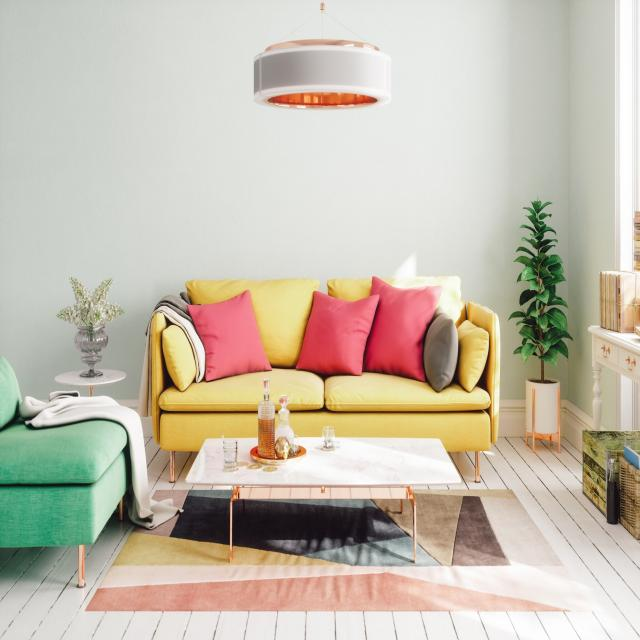modern chair: (2, 320, 140, 590)
modern desk: (180, 427, 462, 577)
modern sofa: (142, 263, 521, 485)
